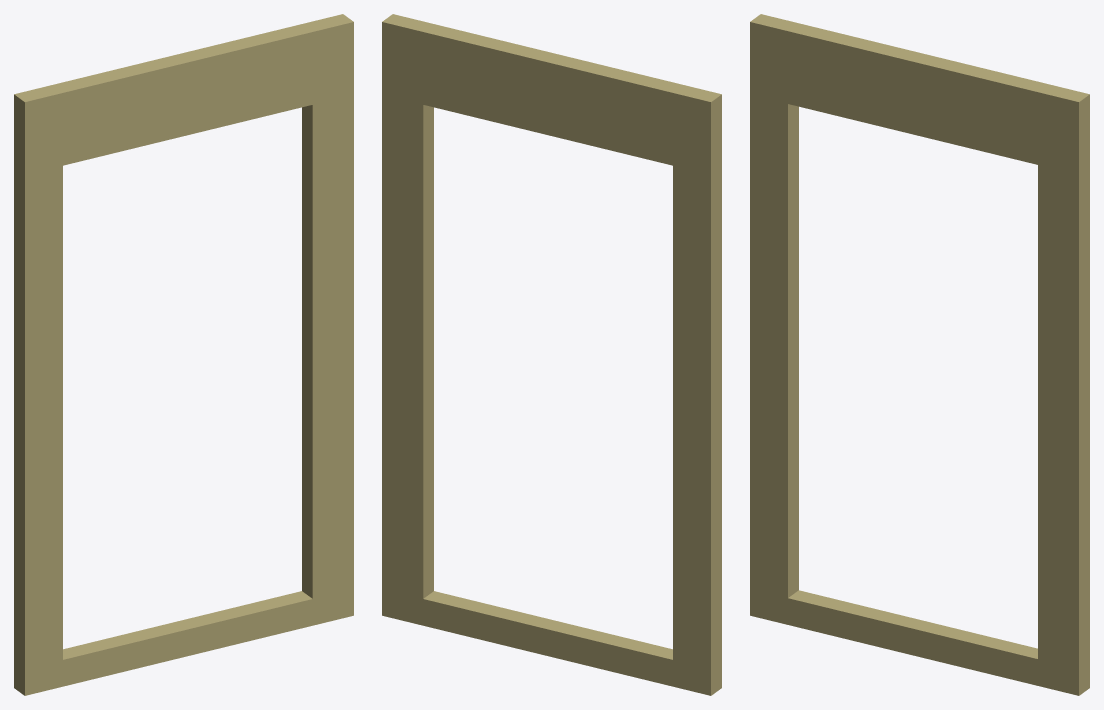
Rendered from ruin2.fbx.
3 views of the same model, side by side, from view 1: azimuth 30°, elevation 25°; view 2: azimuth 150°, elevation 25°; view 3: azimuth 330°, elevation 25° (orthographic).
Visible parts, largest first — view 1: Boole_2; view 2: Boole_2; view 3: Boole_2.
Boxes of the visible parts, left/top/right/bottom form: Boole_2: left=14, top=14, right=353, bottom=695; Boole_2: left=382, top=14, right=721, bottom=695; Boole_2: left=750, top=14, right=1089, bottom=695.
Size of the model in its own units: 190 by 328 by 10.86.
